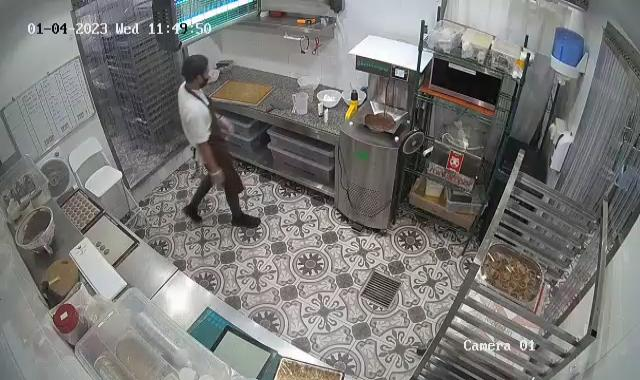no_hairnet: (180, 54, 212, 84)
